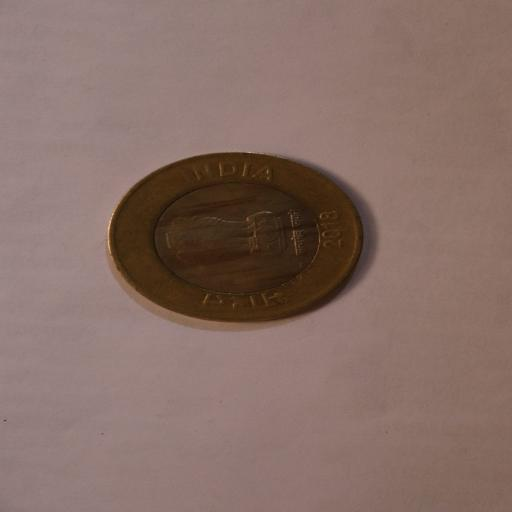rupee10: (101, 151, 373, 326)
